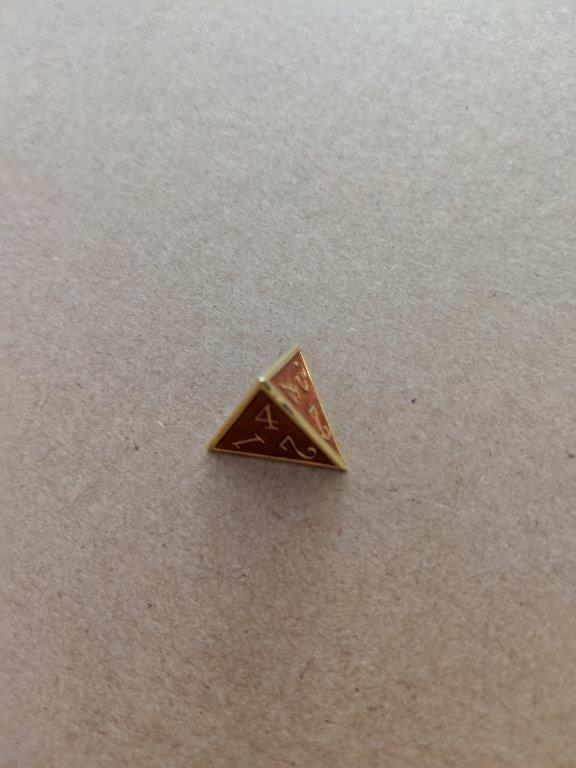d4-4: (209, 341, 349, 478)
